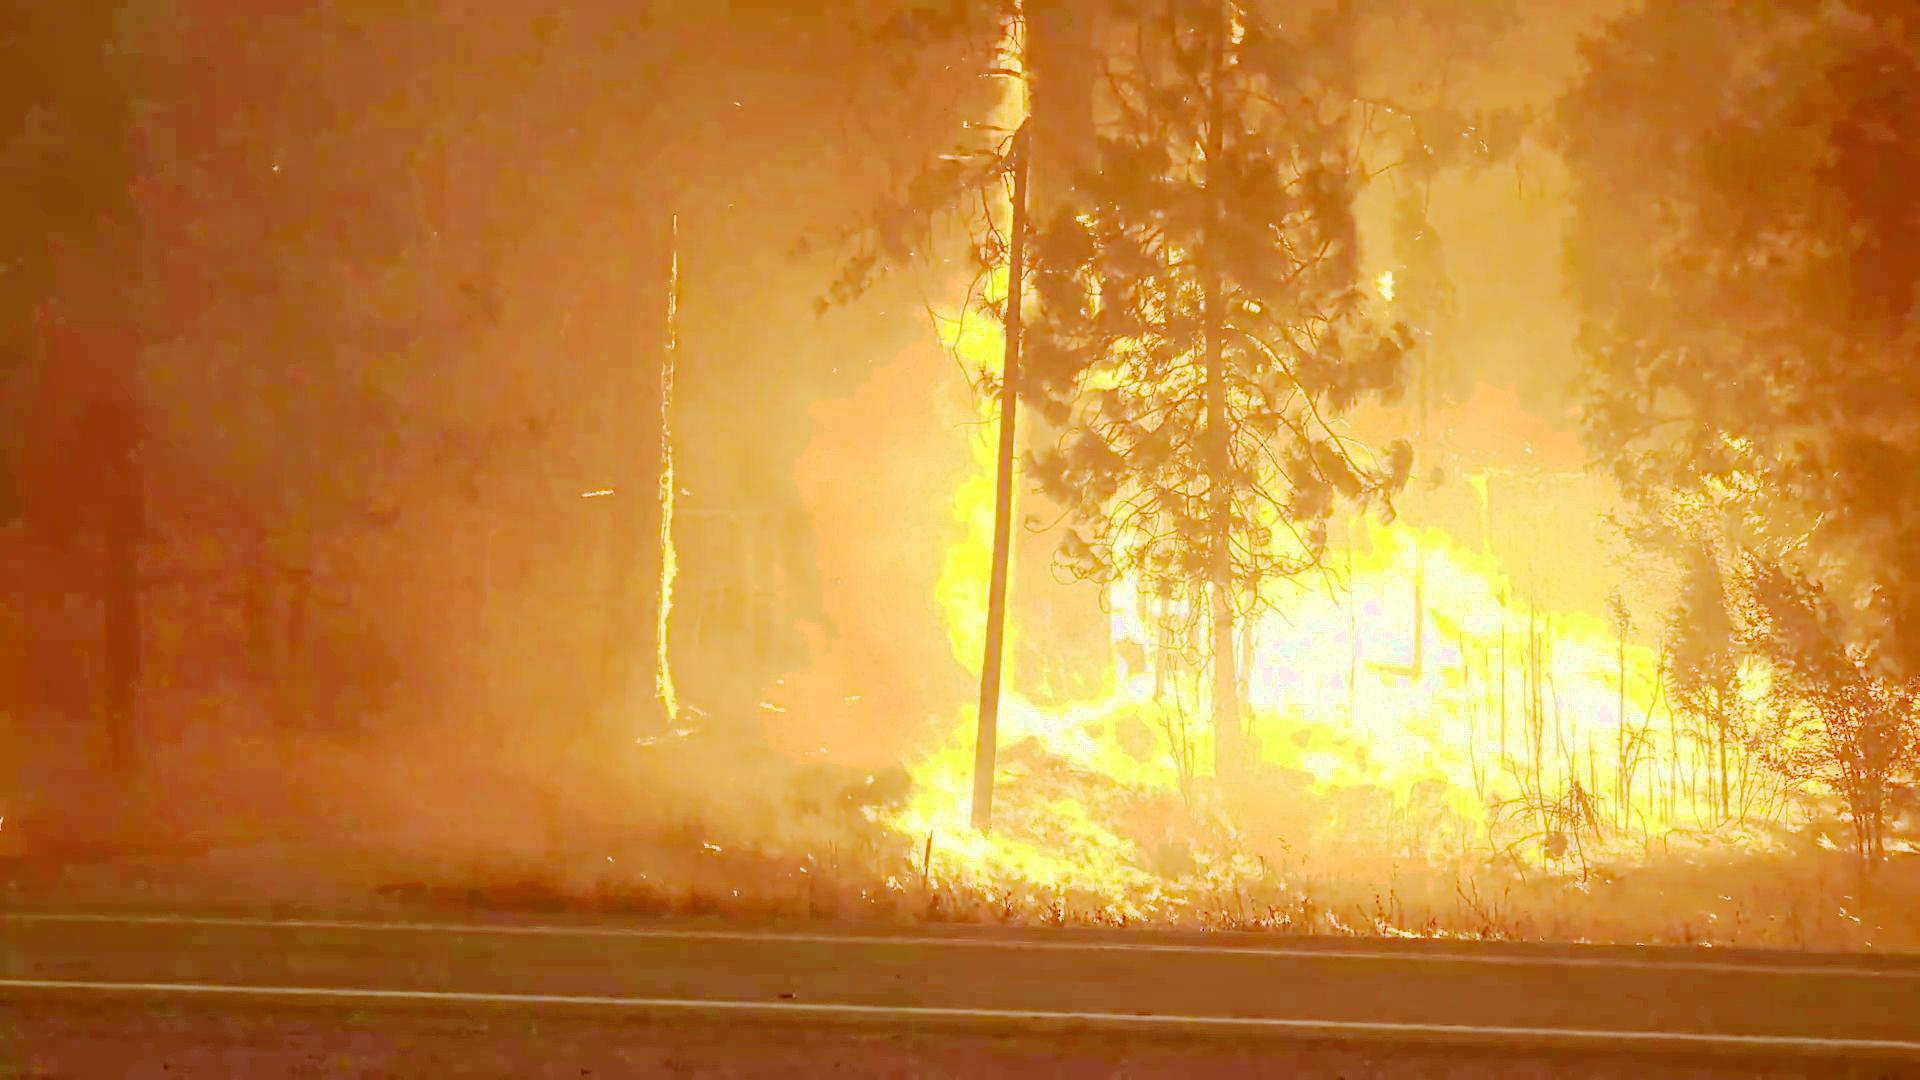fire: (1305, 454, 1647, 802), (1216, 591, 1287, 611)
